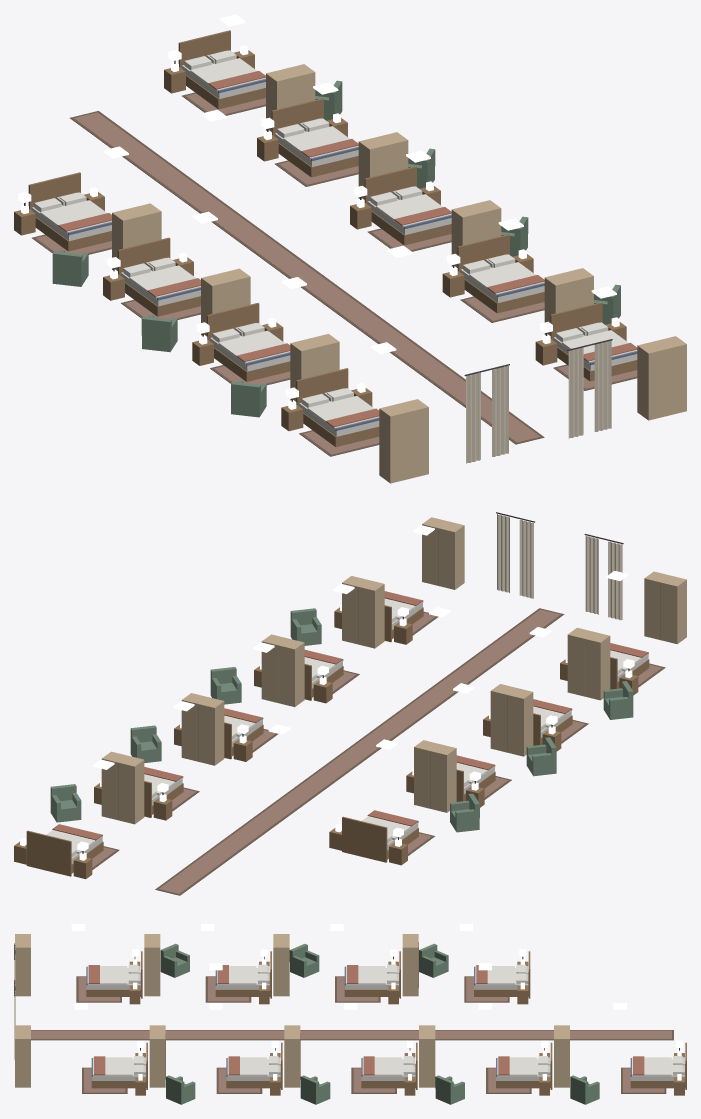
Rendered from fine-s1.glb.
3 renders of one model, top to bottom at view 1: azimuth 30°, elevation 25°; view 2: azimuth 150°, elevation 25°; view 3: azimuth 270°, elevation 25°, orthographic. The views are drawn at different scales.
Parts seen in each view (by area): view 1: soft-s1, dresser.008, dresser.003, bed-frame.007, bed-frame.005, bed-frame.006, bed-frame.004, bed-frame.002, bed-frame.003, bed-frame.001, bed-frame.000, bed-frame.008 (+10 smaller); view 2: soft-s1, dresser.001, dresser.002, dresser.003, dresser.005, dresser.004, dresser.006, dresser.000, dresser.007, dresser.008, bed-frame.004, bed-frame.000 (+11 smaller); view 3: soft-s1, dresser.001, dresser.005, dresser.006, dresser.007, dresser.000, dresser.002, dresser.004, dresser.008, dresser.003, bed-frame.005, lounge-chair.001 (+14 smaller).
Part boxes in pixels (x1,y1,x2,y2): soft-s1: (18, 49, 637, 463); dresser.008: (637, 336, 686, 420); dresser.003: (379, 399, 428, 483); bed-frame.007: (457, 234, 544, 313); bed-frame.005: (271, 98, 358, 177); bed-frame.006: (364, 166, 451, 245); bed-frame.004: (178, 30, 265, 109); bed-frame.002: (207, 303, 290, 381); bed-frame.003: (296, 368, 379, 446); bed-frame.001: (117, 237, 200, 316); bed-frame.000: (28, 172, 111, 251); bed-frame.008: (550, 302, 637, 381); soft-s1: (46, 512, 665, 895); dresser.001: (490, 684, 533, 756); dresser.002: (567, 627, 610, 700); dresser.003: (644, 571, 686, 644); dresser.005: (181, 693, 224, 765); dresser.004: (101, 751, 144, 824); dresser.006: (261, 634, 304, 706); dresser.000: (414, 740, 456, 812); dresser.007: (342, 576, 384, 648); dresser.008: (422, 517, 464, 589); bed-frame.004: (26, 830, 103, 876); bed-frame.000: (342, 816, 418, 862); soft-s1: (14, 943, 683, 1093); dresser.001: (273, 934, 289, 996); dresser.005: (419, 1025, 435, 1087); dresser.006: (284, 1025, 300, 1087); dresser.007: (149, 1025, 165, 1087); dresser.000: (402, 934, 418, 996); dresser.002: (144, 934, 160, 996); dresser.004: (554, 1025, 569, 1087); dresser.008: (15, 1025, 30, 1087); dresser.003: (15, 934, 30, 996); bed-frame.005: (496, 1042, 552, 1089); lounge-chair.001: (289, 944, 319, 977).
Size of the model in its own units: 12.29 by 2.84 by 25.09.
